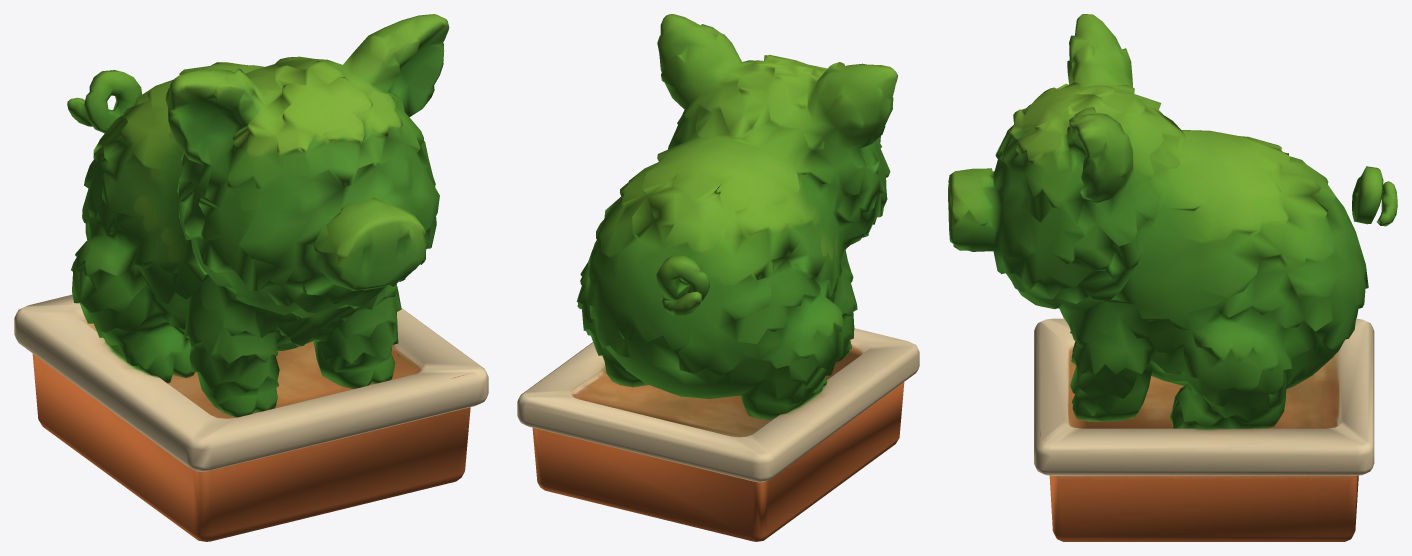
Rendered from topiary_pig.glb.
3 renders of one model, left to right at view 1: azimuth 30°, elevation 25°; view 2: azimuth 150°, elevation 25°; view 3: azimuth 270°, elevation 25°, orthographic. The views are drawn at different scales.
Visible parts, largest first — view 1: topiary_pig; view 2: topiary_pig; view 3: topiary_pig.
Boxes of the visible parts, x1,y1,x2,y2 form: topiary_pig: [14, 14, 488, 541]; topiary_pig: [517, 14, 919, 541]; topiary_pig: [948, 14, 1397, 541].
Bounding box in the file's own units: 1.83 × 2.6 × 2.56.
Materials: 1 (1 with a texture image).
